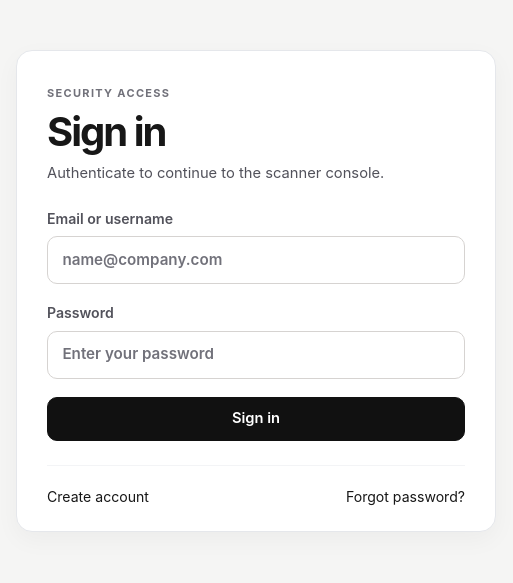
Test: Authentication, Access Control and IAM Views › validates required login inputs
The width and height of the screenshot is (513, 583).
What coordinates should you click on to do the following:
click the button "Sign in"
I would click on:
 (256, 418)
Its box is [47, 396, 465, 440].
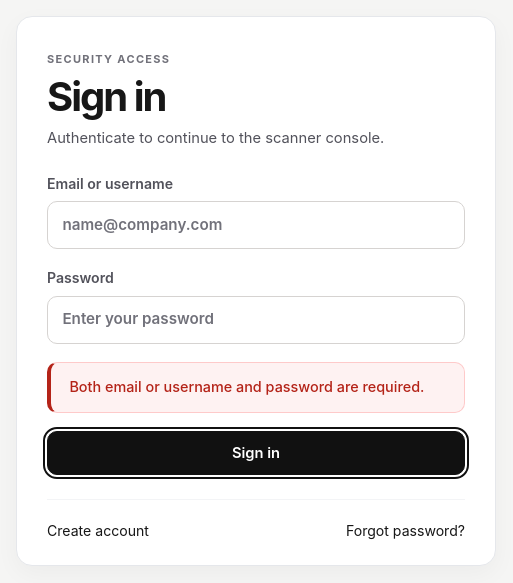
Now the text "Both email or username and password are required." is shown, box [47, 362, 465, 413]
